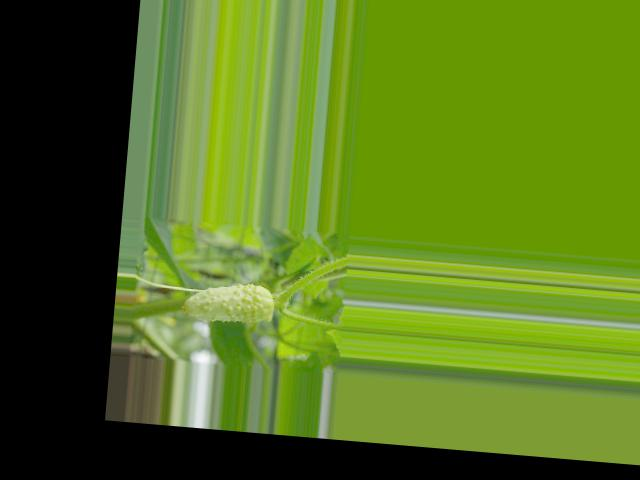cucumber: (180, 277, 276, 325)
